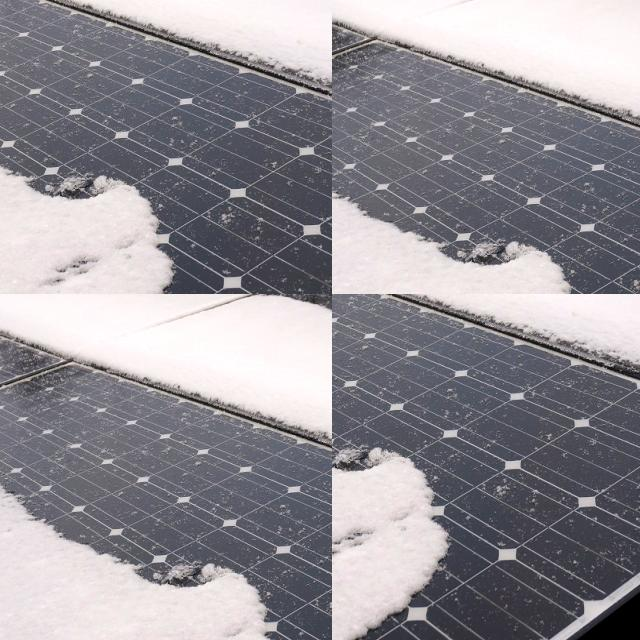dust: (333, 112, 452, 182), (332, 94, 395, 175)
panel: (332, 294, 427, 467), (354, 438, 449, 609), (517, 303, 640, 415), (379, 294, 509, 357), (332, 305, 382, 436), (332, 525, 380, 640), (332, 409, 393, 499), (448, 294, 528, 360), (334, 294, 429, 335), (542, 294, 607, 350), (332, 294, 395, 348), (0, 374, 46, 447), (0, 342, 32, 442), (332, 558, 368, 640), (0, 308, 36, 388), (332, 599, 397, 640), (332, 294, 396, 333), (0, 294, 39, 352), (378, 294, 456, 323), (519, 294, 594, 323), (332, 294, 389, 329), (332, 294, 386, 329), (615, 294, 640, 357), (0, 386, 24, 451), (0, 294, 51, 321), (0, 294, 30, 337), (332, 294, 364, 334), (332, 294, 362, 332), (85, 294, 127, 321), (608, 294, 640, 327), (461, 294, 505, 318), (20, 294, 66, 316), (0, 294, 28, 322), (9, 294, 51, 311), (332, 294, 363, 317), (332, 294, 355, 325), (57, 294, 91, 314), (332, 294, 380, 305), (332, 294, 371, 307), (332, 294, 358, 309), (0, 294, 19, 311)
